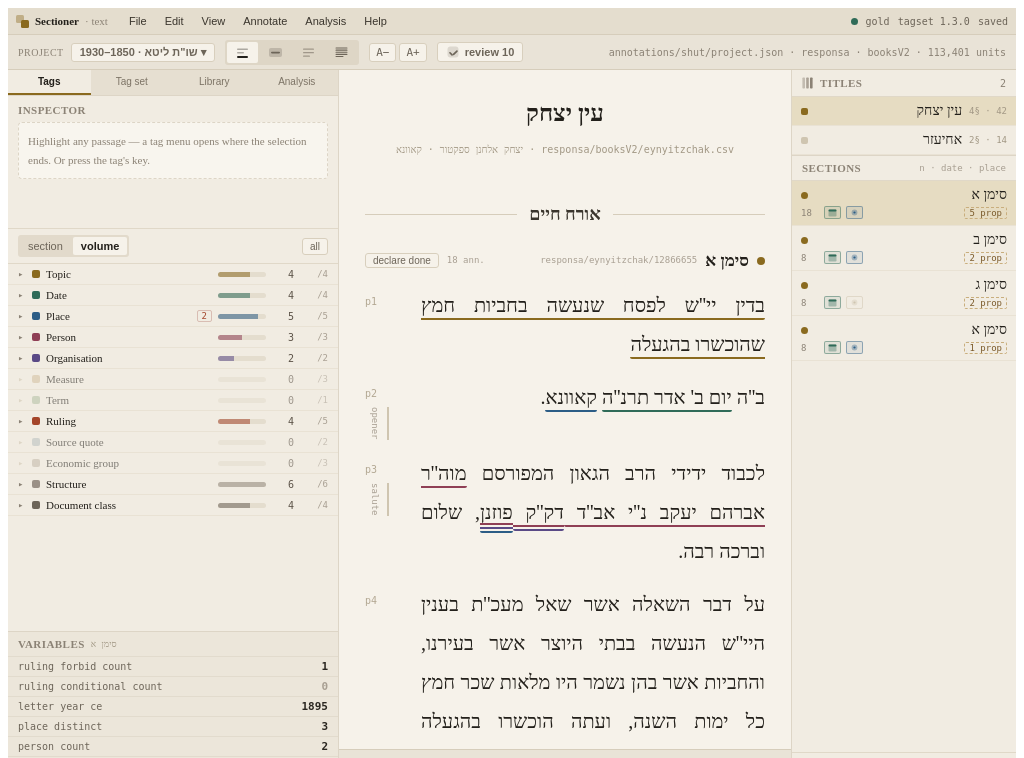
Test: switching project › opens the press corpus and swaps the tag set with it
The image size is (1024, 758).
Click the button "שו\"ת ליטא · 1850–1930 ▾".
click(143, 52)  # box 71,42 -> 215,62
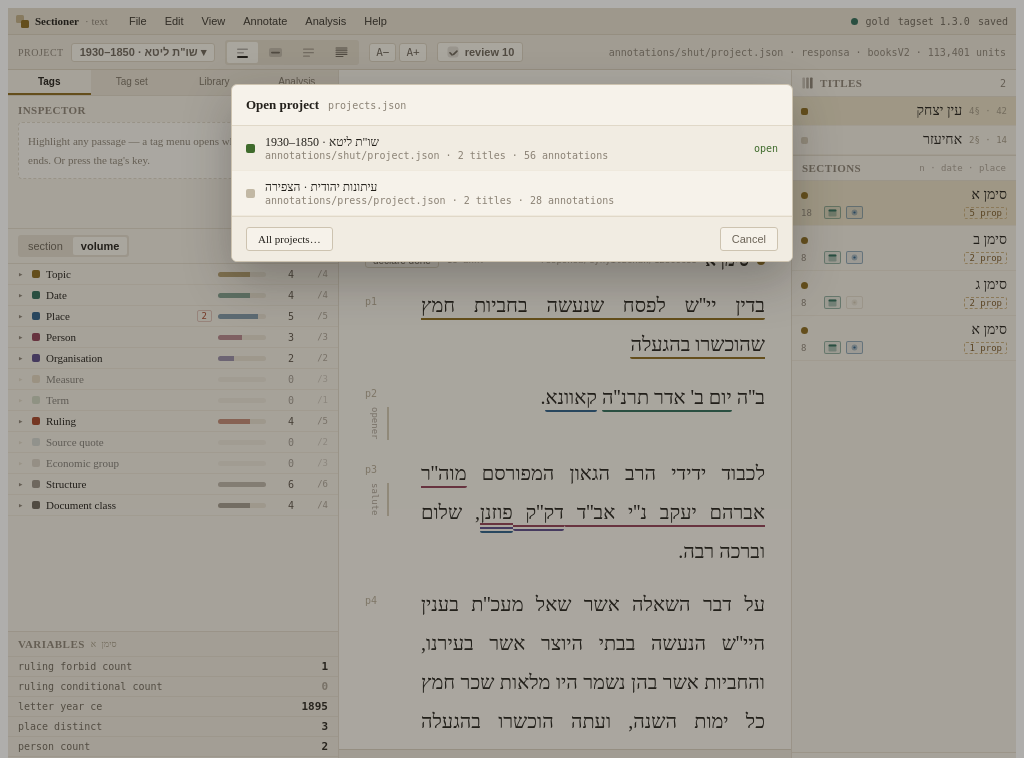
Click the text "עיתונות יהודית · הצפירה".
click(321, 188)  # box 265,180 -> 377,194
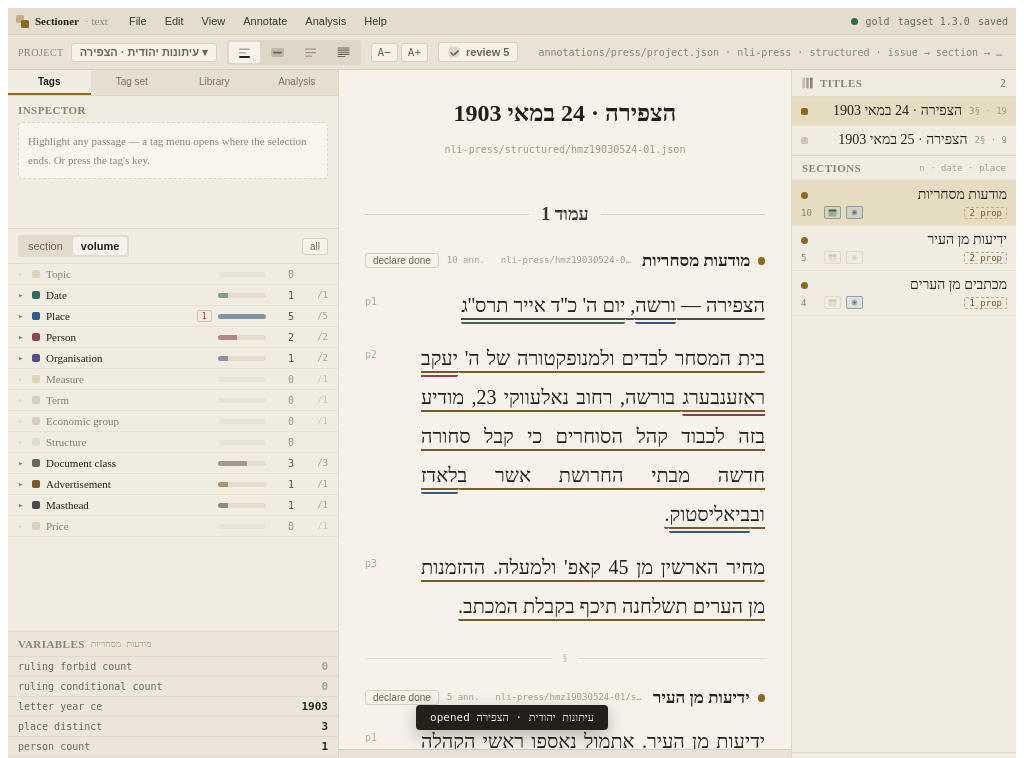
Check: the text "Advertisement" is shown, box 46,478 -> 111,490
